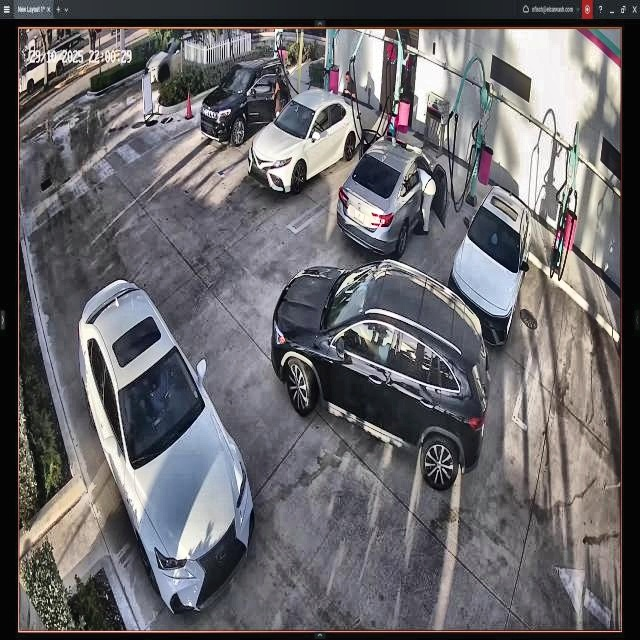Car: (77, 281, 255, 614), (272, 264, 488, 487), (339, 136, 447, 261), (452, 185, 531, 344), (251, 89, 363, 193), (203, 57, 290, 146)
